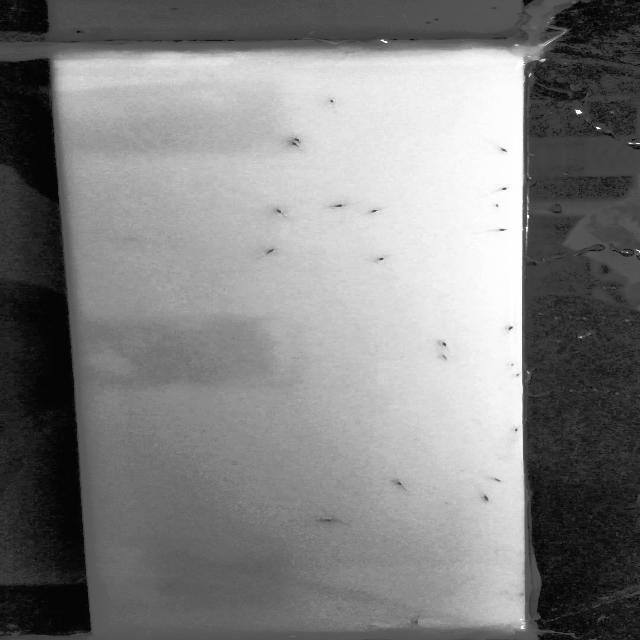shrimp: (311, 513, 345, 529), (386, 477, 410, 493), (403, 615, 430, 629), (494, 180, 516, 196), (475, 488, 494, 506), (504, 423, 524, 436), (483, 201, 506, 211), (163, 580, 181, 592), (274, 206, 293, 217), (437, 352, 456, 363), (331, 200, 348, 212), (266, 246, 284, 257), (490, 474, 504, 487), (325, 95, 343, 105), (370, 204, 385, 216), (377, 253, 392, 265), (287, 141, 304, 151), (504, 360, 518, 372), (437, 341, 452, 352), (499, 143, 511, 155), (510, 371, 522, 382), (292, 136, 304, 144)
